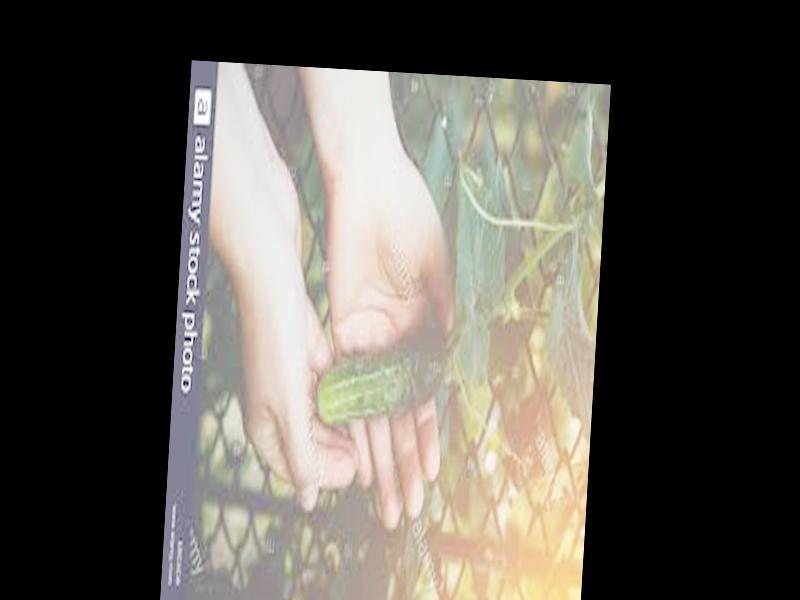Cucumber: (313, 324, 447, 433)
